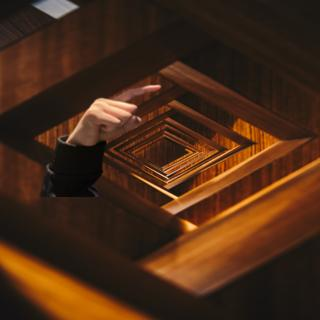WHY: (64, 75, 165, 148)
